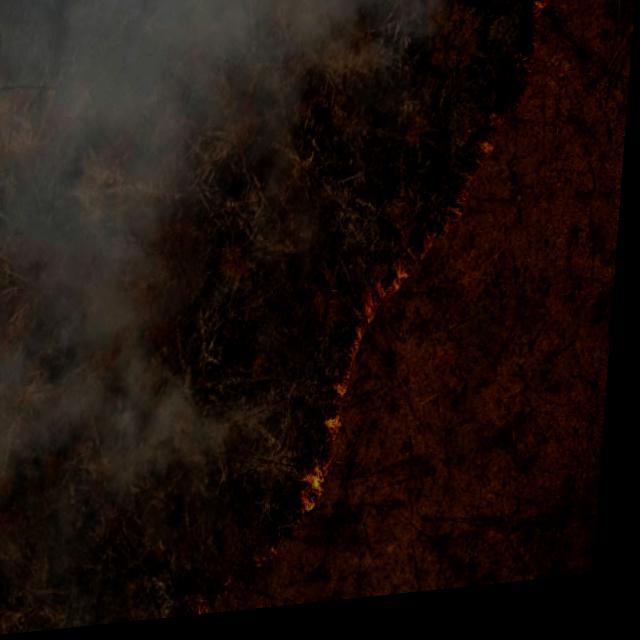Fire: (282, 0, 589, 543)
